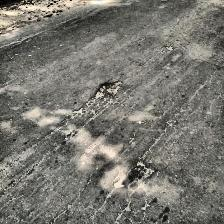pothole: (94, 79, 122, 99), (113, 178, 125, 188), (17, 10, 33, 16), (0, 14, 10, 20), (165, 46, 173, 50), (6, 8, 16, 10), (26, 0, 36, 2), (11, 0, 21, 2), (18, 4, 26, 6), (0, 0, 4, 4)
